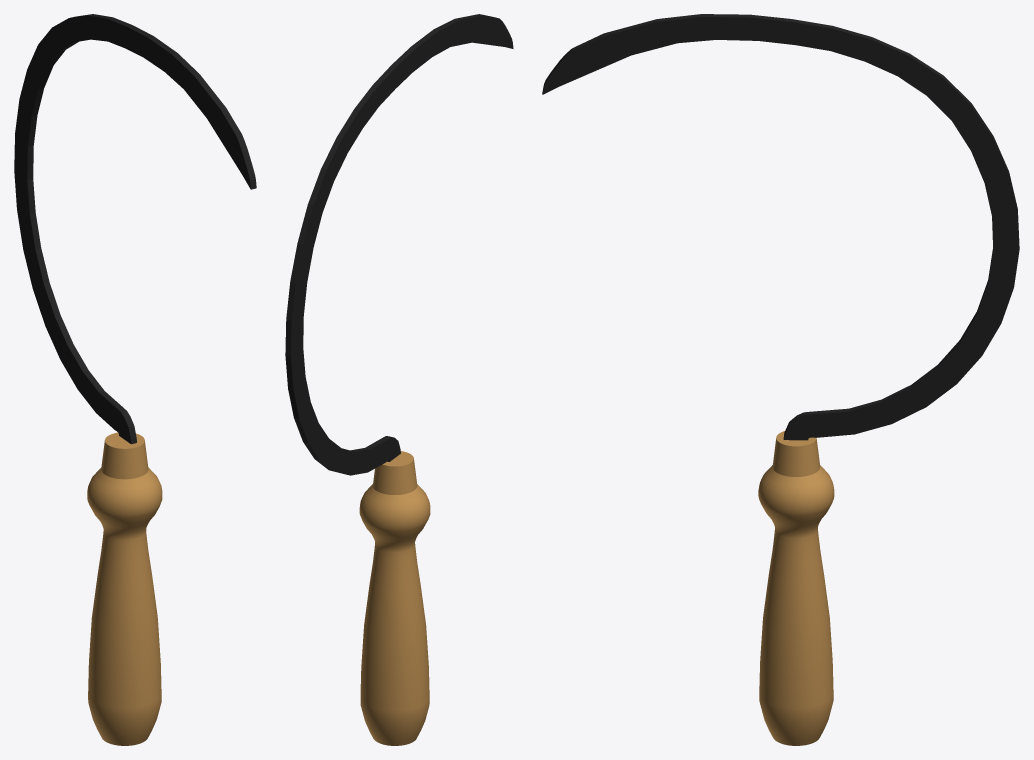
Rendered from sickle.fbx.
The picture shows the model from 3 angles, left to right: view 1: azimuth 30°, elevation 25°; view 2: azimuth 150°, elevation 25°; view 3: azimuth 270°, elevation 25°; orthographic projection. The views are drawn at different scales.
Visible parts, largest first — view 1: Cylinder; view 2: Cylinder; view 3: Cylinder.
Part boxes in pixels (x1,y1,x2,y2): Cylinder: (14, 14, 256, 745); Cylinder: (285, 14, 513, 745); Cylinder: (542, 14, 1019, 745).
Bounding box in the file's own units: 96.45 × 1015 × 606.
